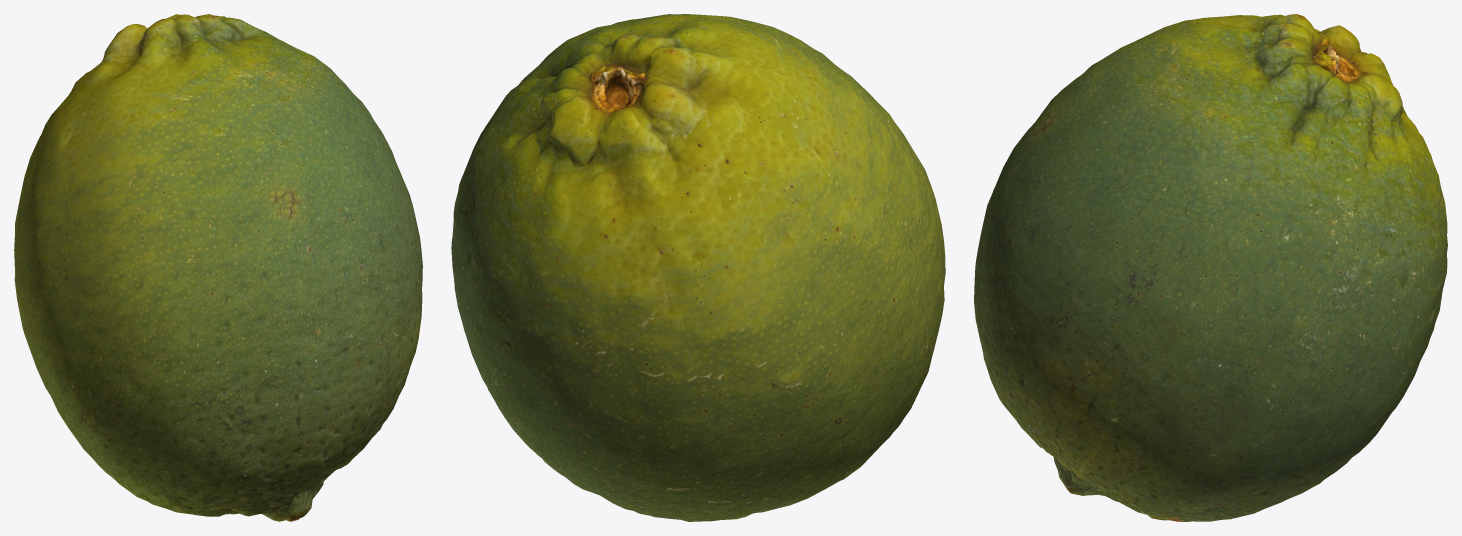
Rendered from lime.glb.
3 renders of one model, left to right at view 1: azimuth 30°, elevation 25°; view 2: azimuth 150°, elevation 25°; view 3: azimuth 270°, elevation 25°, orthographic. The views are drawn at different scales.
Visible parts, largest first — view 1: food_lime_01; view 2: food_lime_01; view 3: food_lime_01.
Boxes of the visible parts, x1,y1,x2,y2 form: food_lime_01: [14, 14, 422, 521]; food_lime_01: [451, 14, 945, 521]; food_lime_01: [974, 14, 1447, 521].
Bounding box in the file's own units: 1.92 × 2.28 × 2.04.
Materials: 1 (1 with a texture image).
